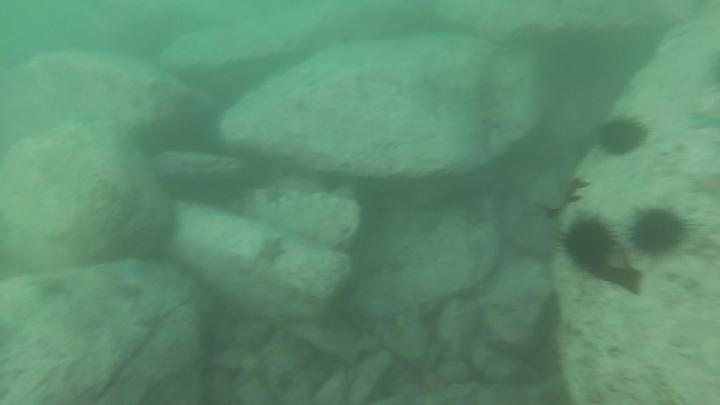echinus: (625, 204, 692, 260), (559, 214, 618, 274), (595, 113, 649, 160)
starfish: (29, 271, 75, 304), (252, 233, 289, 268), (687, 169, 720, 202), (686, 104, 720, 135), (113, 279, 147, 305), (262, 183, 287, 208)
